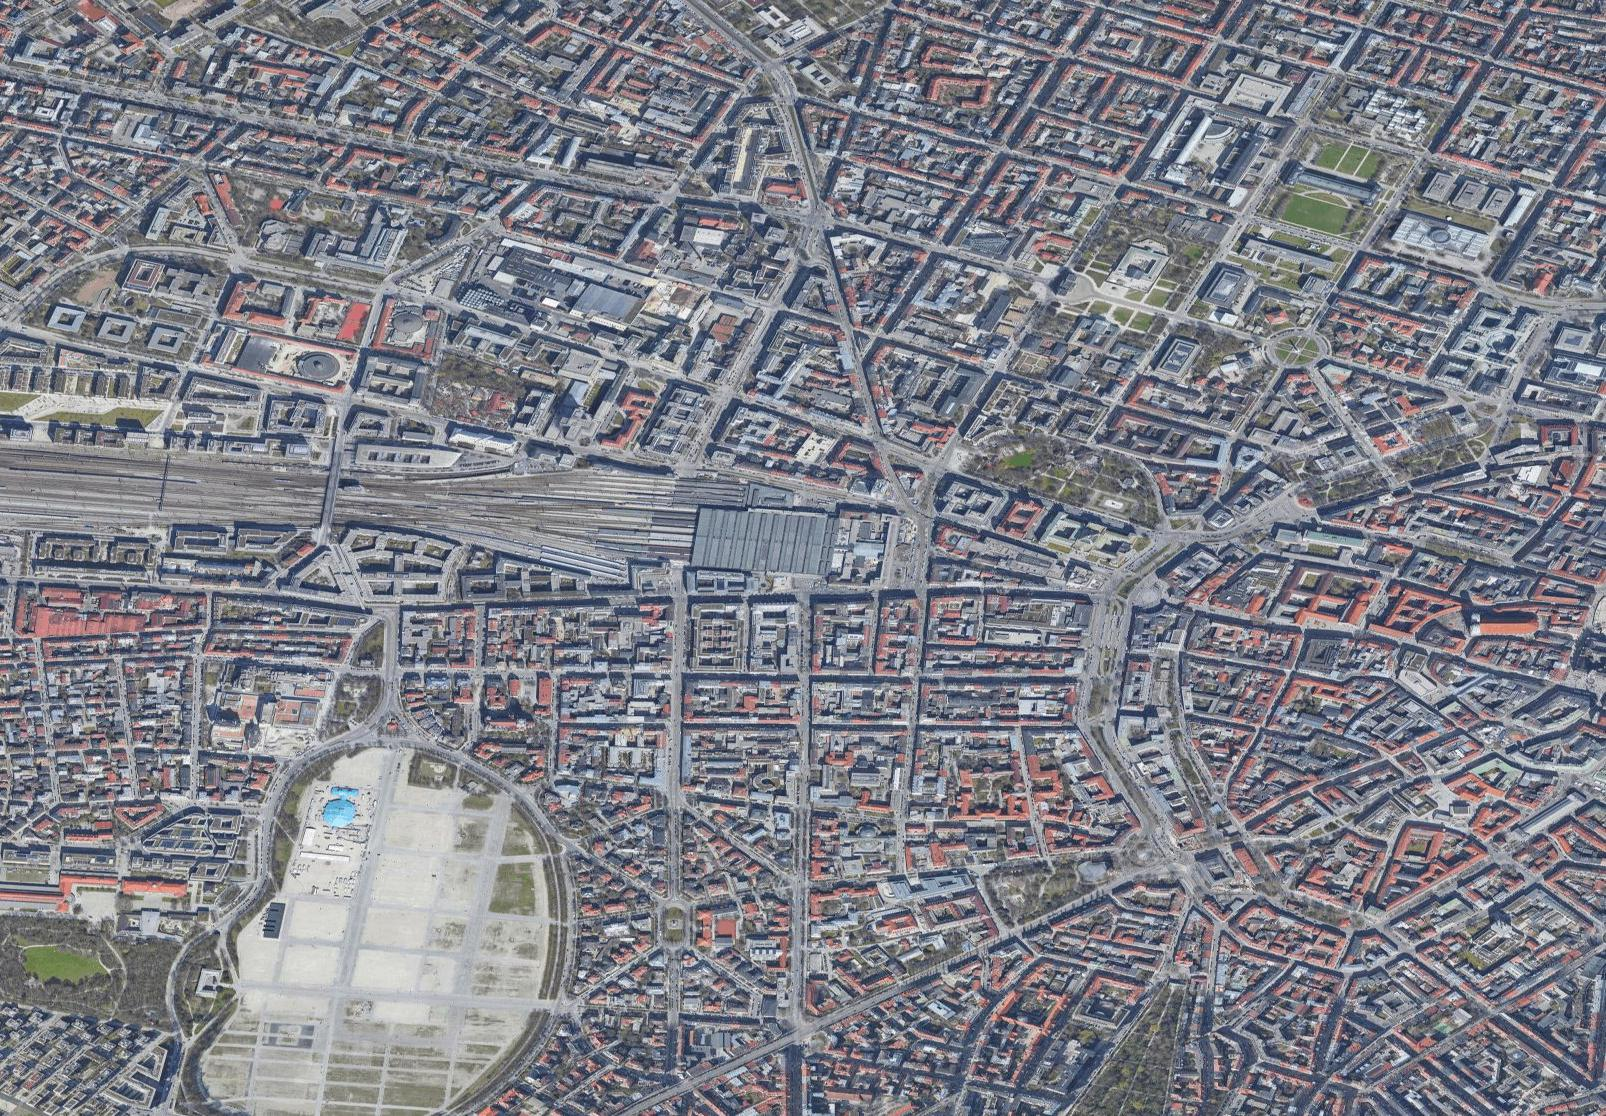train_station: (641, 458, 896, 604)
